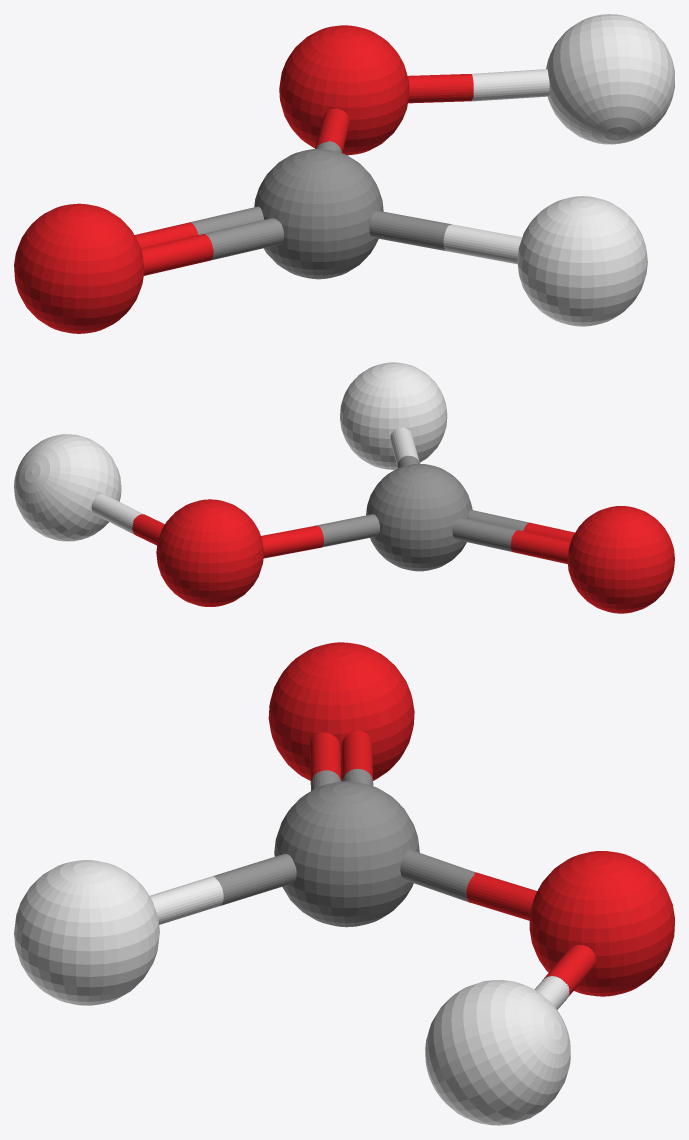
File: formicacid.fbx
3 renders of one model, top to bottom at view 1: azimuth 30°, elevation 25°; view 2: azimuth 150°, elevation 25°; view 3: azimuth 270°, elevation 25°, orthographic. The views are drawn at different scales.
Visible parts, largest first — view 1: Sphere.014, Sphere.010, Sphere.006, Sphere.004, Sphere.000, Cylinder.012, Cylinder.025, Cylinder.027, Cylinder.003, Cylinder.017, Cylinder.011, Cylinder.000 (+2 smaller); view 2: Sphere.010, Sphere.000, Sphere.006, Sphere.004, Sphere.014, Cylinder.002, Cylinder.000, Cylinder.001, Cylinder.007, Cylinder.012, Cylinder.027, Cylinder.011 (+2 smaller); view 3: Sphere.006, Sphere.014, Sphere.004, Sphere.000, Sphere.010, Cylinder.025, Cylinder.007, Cylinder.027, Cylinder.002, Cylinder.011, Cylinder.017, Cylinder.001 (+1 smaller).
Part boxes in pixels (x1,y1,x2,y2): Sphere.014: (517,196,647,326); Sphere.010: (14,203,144,333); Sphere.006: (546,14,674,144); Sphere.004: (254,149,383,279); Sphere.000: (279,25,409,155); Cylinder.012: (472,69,549,101); Cylinder.025: (369,210,451,250); Cylinder.027: (443,224,522,264); Cylinder.003: (204,218,283,260); Cylinder.017: (141,234,213,275); Cylinder.011: (407,74,473,103); Cylinder.000: (190,206,264,234); Sphere.010: (567,506,674,613); Sphere.000: (156,499,263,606); Sphere.006: (14,434,121,541); Sphere.004: (366,463,472,571); Sphere.014: (340,362,447,469); Cylinder.002: (261,526,323,558); Cylinder.000: (452,518,517,551); Cylinder.001: (510,530,570,564); Cylinder.007: (314,514,379,547); Cylinder.012: (91,494,143,535); Cylinder.027: (390,427,419,465); Cylinder.011: (132,514,164,545); Sphere.006: (425,980,570,1125); Sphere.014: (14,860,159,1005); Sphere.004: (274,781,419,927); Sphere.000: (529,851,674,996); Sphere.010: (268,642,414,781); Cylinder.025: (213,853,296,905); Cylinder.007: (400,850,475,902); Cylinder.027: (150,876,223,924); Cylinder.002: (466,872,536,920); Cylinder.011: (542,944,596,996); Cylinder.017: (309,732,341,784); Cylinder.001: (341,731,372,780).
Size of the model in its own units: 95.88 by 16.23 by 68.7.
